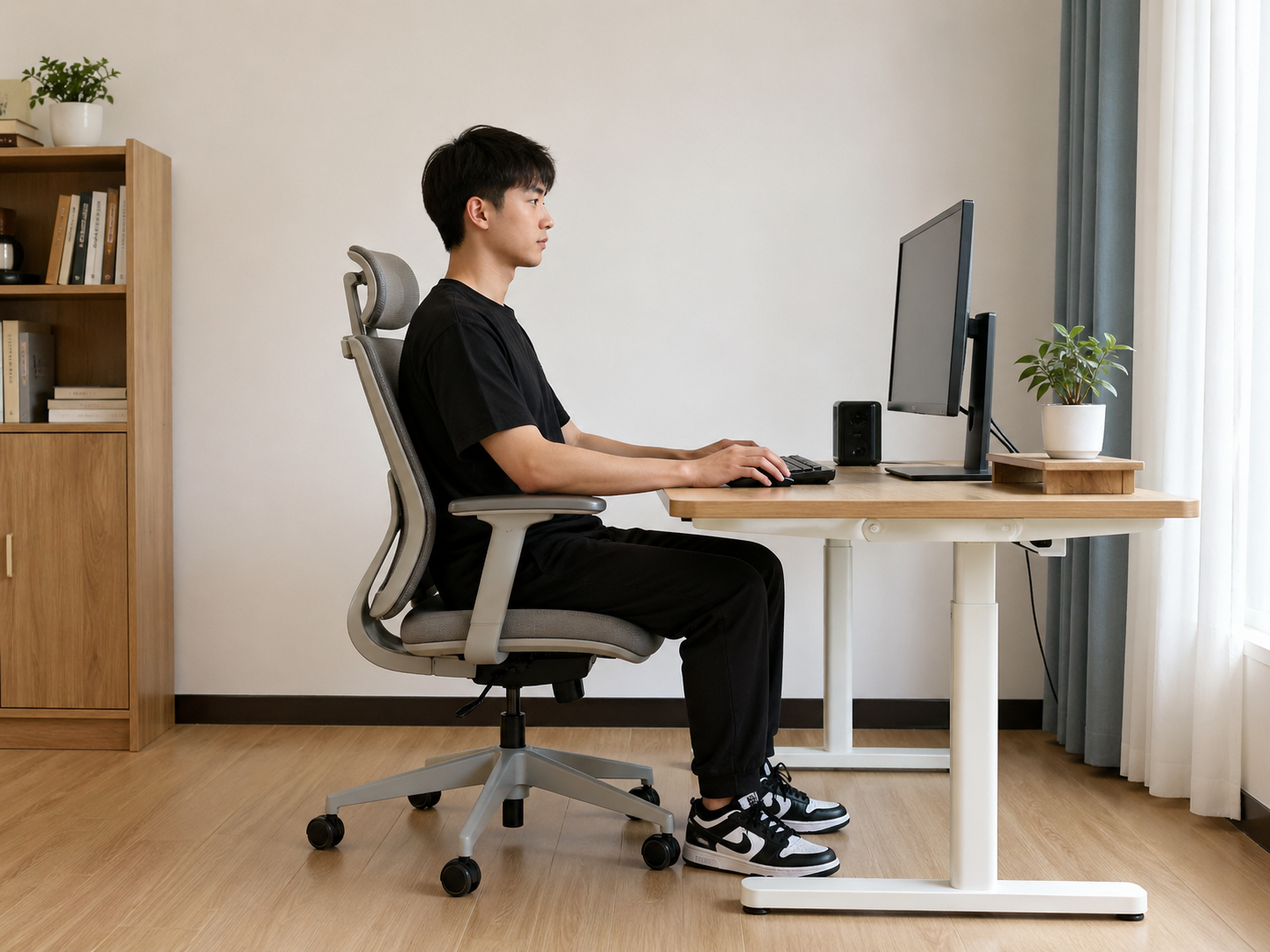sitting_good: (363, 94, 846, 853)
